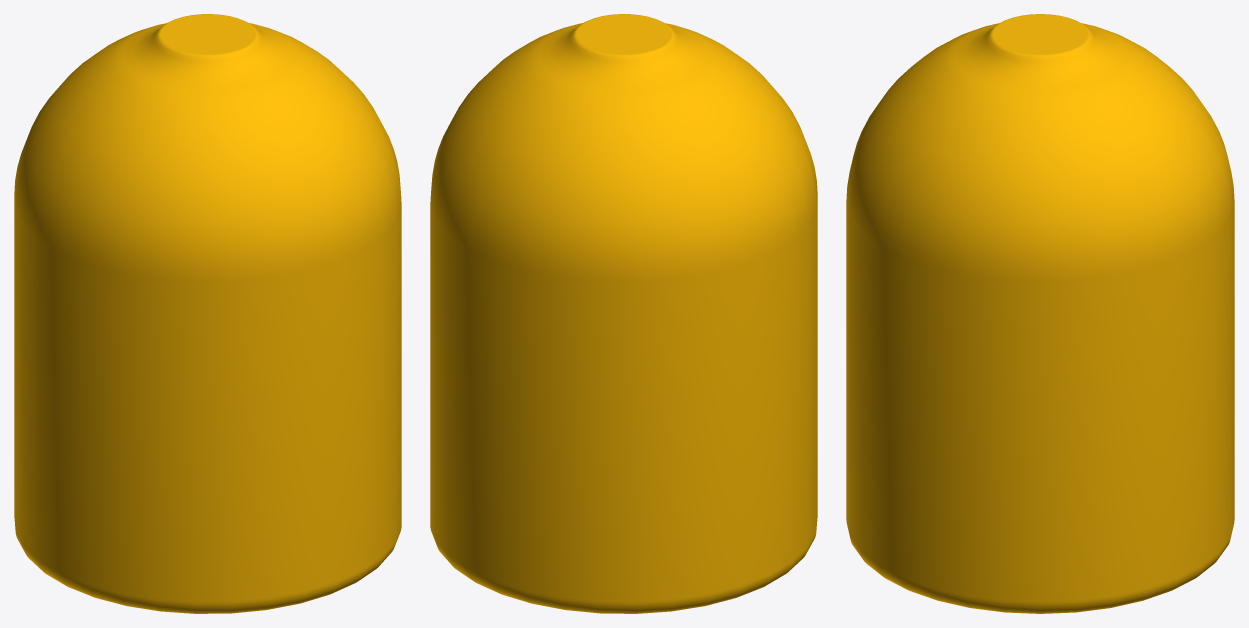
File: liquid.gltf
3 views of the same model, side by side, from view 1: azimuth 30°, elevation 25°; view 2: azimuth 150°, elevation 25°; view 3: azimuth 270°, elevation 25° (orthographic).
Parts seen in each view (by area): view 1: Liquide_Interieur; view 2: Liquide_Interieur; view 3: Liquide_Interieur.
Part boxes in pixels (x1=…): Liquide_Interieur: x1=14, y1=14, x2=401, y2=613; Liquide_Interieur: x1=430, y1=14, x2=817, y2=613; Liquide_Interieur: x1=846, y1=14, x2=1234, y2=613.
Bounding box in the file's own units: 0.0921 × 0.1317 × 0.0921.
